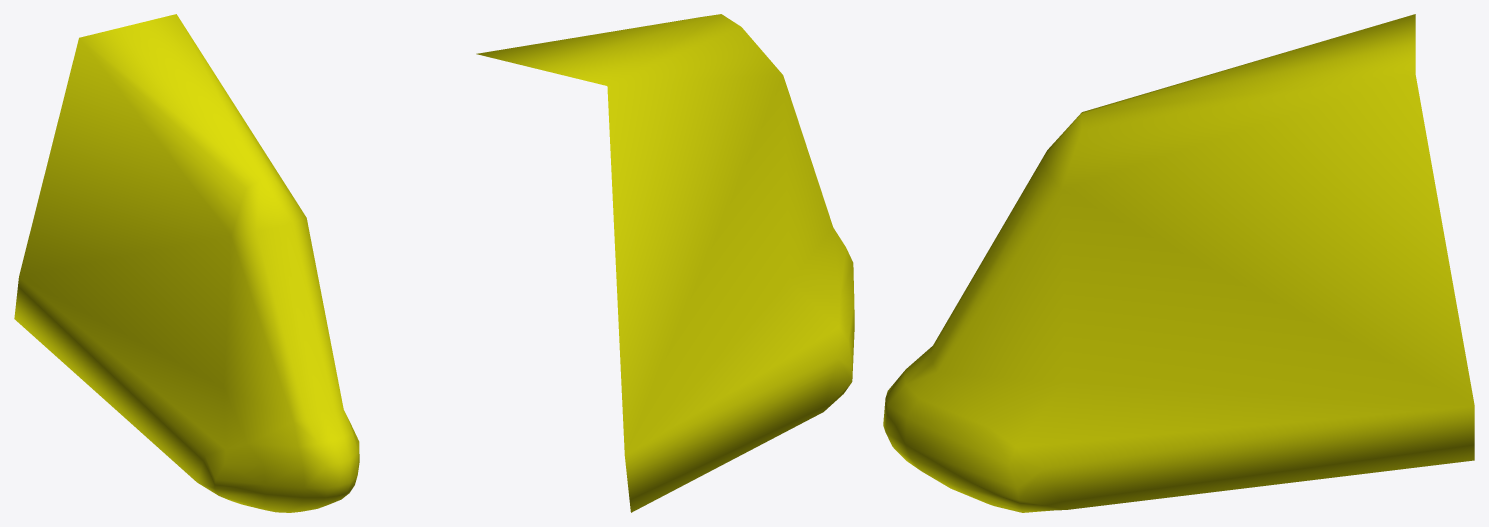
The model's file is Nose_6.glb.
The picture shows the model from 3 angles, left to right: view 1: azimuth 30°, elevation 25°; view 2: azimuth 150°, elevation 25°; view 3: azimuth 270°, elevation 25°; orthographic projection. The views are drawn at different scales.
Size of the model in its own units: 8.77 by 17.2 by 19.96.
